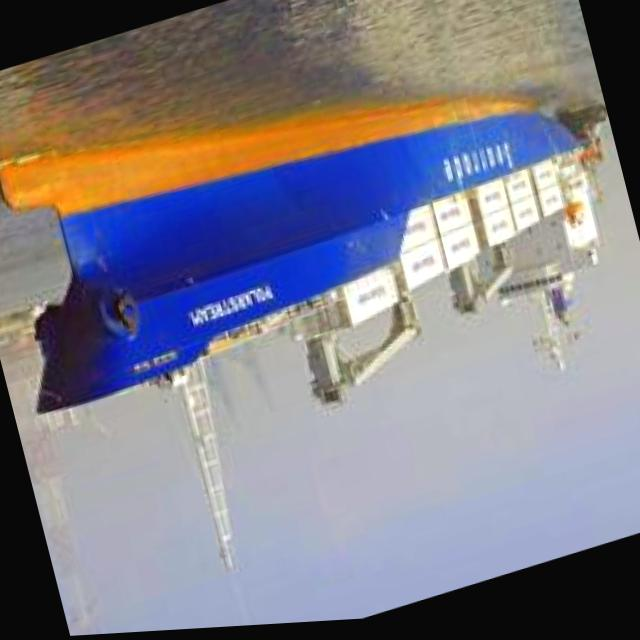ship2: (0, 97, 602, 575)
